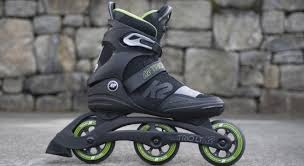roller_blate: (53, 5, 247, 165)
